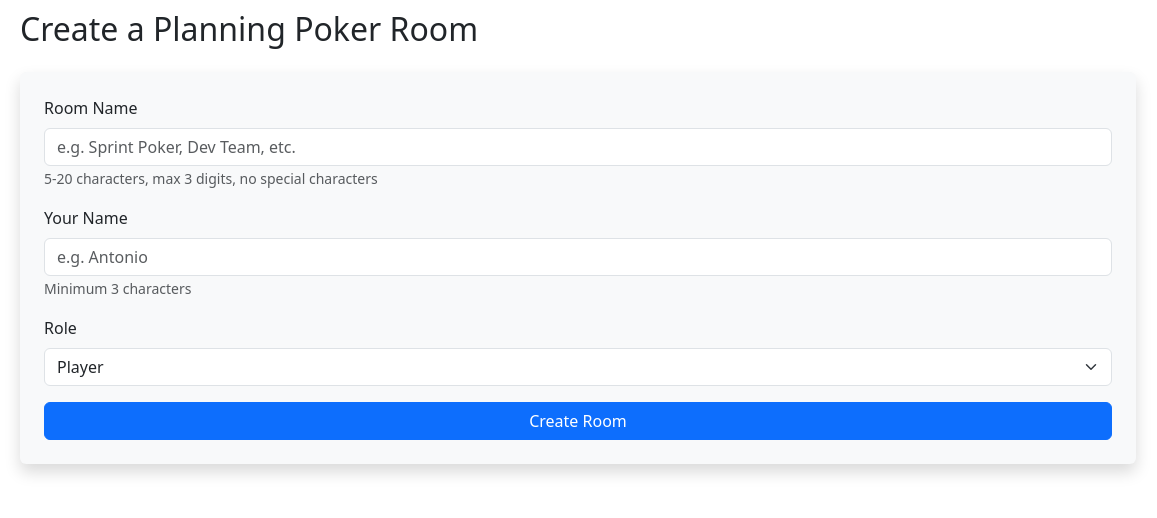
it: Home Component - Comprehensive Test › Name field validation › shows error when name is too short (2 characters)
Type "ValidRoom" into the field with placeholder "e.g. Sprint Poker, Dev Team, etc." at [578, 147], box [44,128,1112,166]
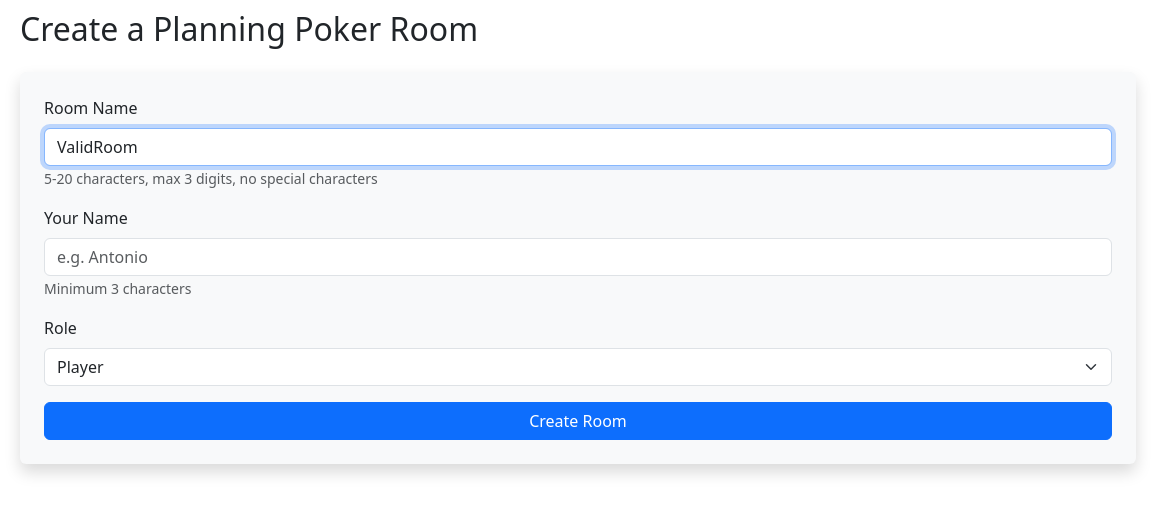
Type "An" into the field with placeholder "e.g. Antonio" at [578, 257], box [44,238,1112,276]
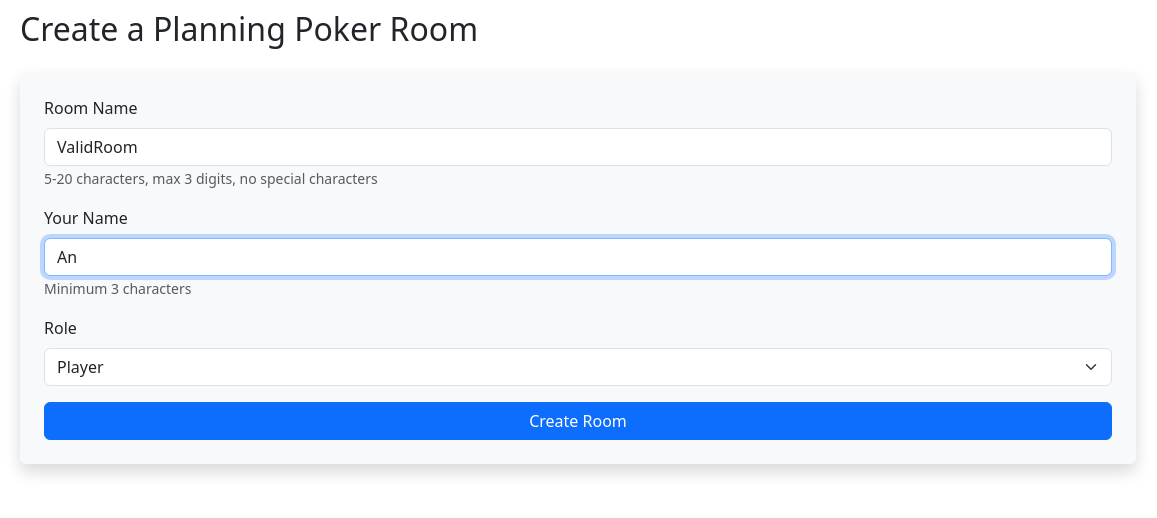
Click the button "Create Room" at [578, 421], box [44,402,1112,440]
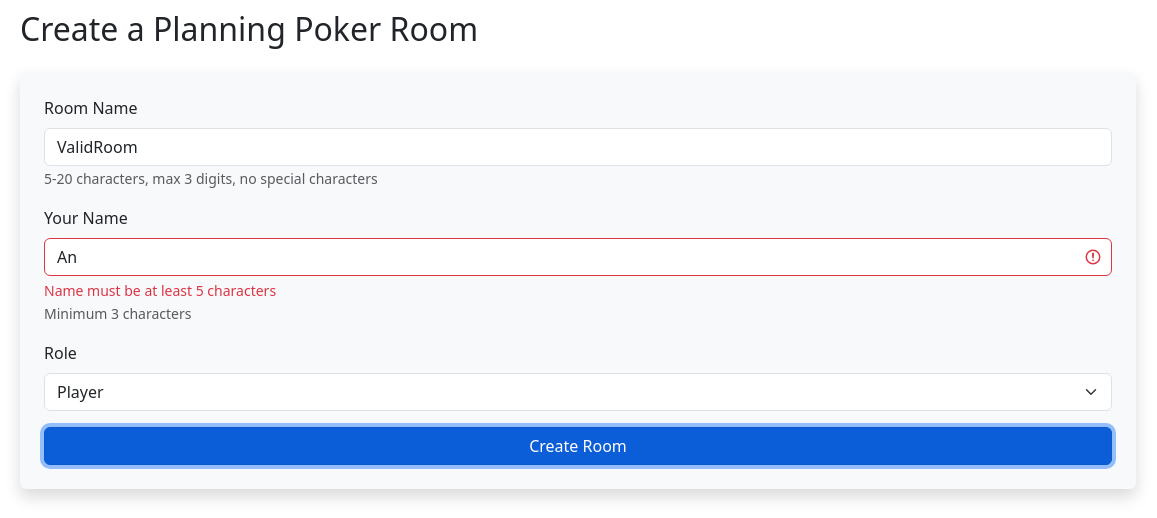
Expected: the text "Name must be at least 5 characters" is shown, [44,281,276,300]
